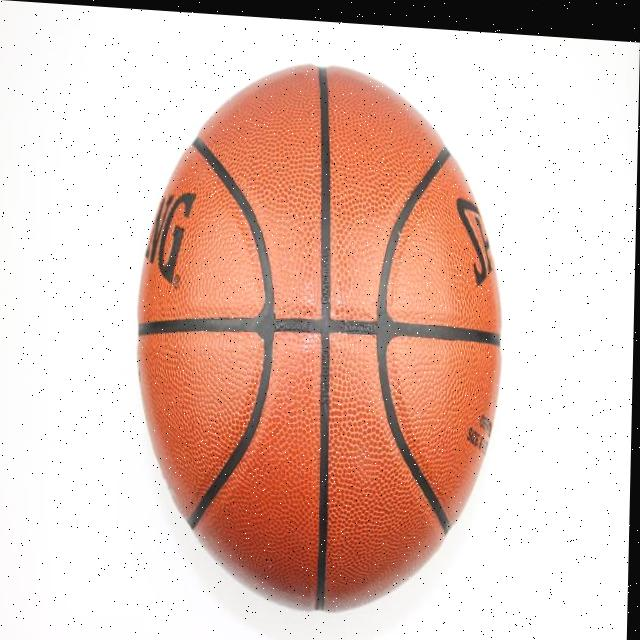Basketball: (129, 56, 507, 622)
